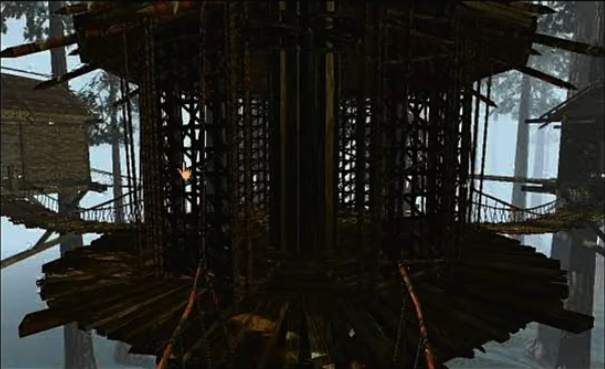Pointer: (173, 158, 197, 182)
